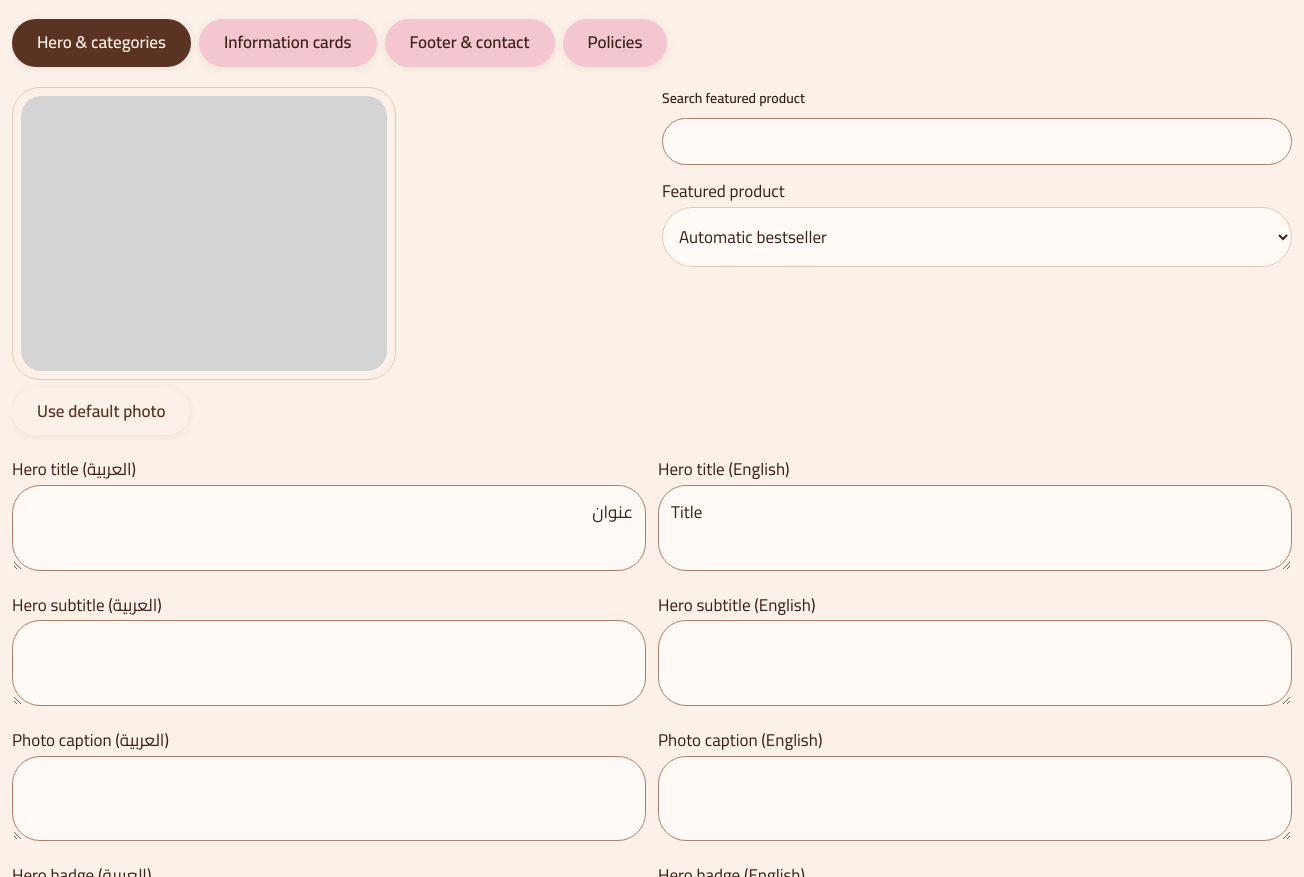
Test: content editor › publishes one coherent document and invalidates the public cache
Step 1. Replace the text in the text box labelled "Hero title (English)" with "New title" → (975,528), box [658,485,1292,571]
(page scrolled)
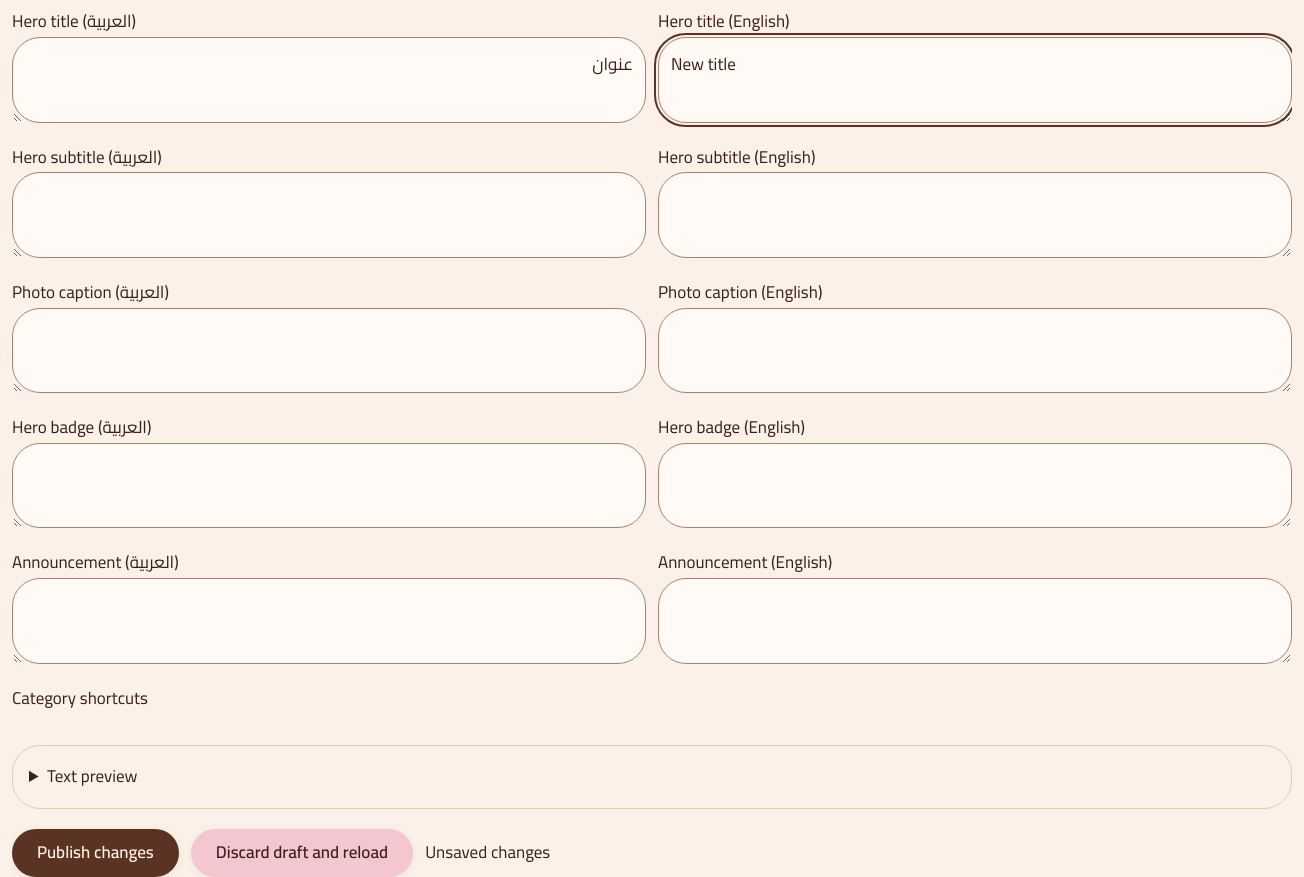
Step 2. Click the button "Publish changes" → (95,853), box [12,829,179,876]
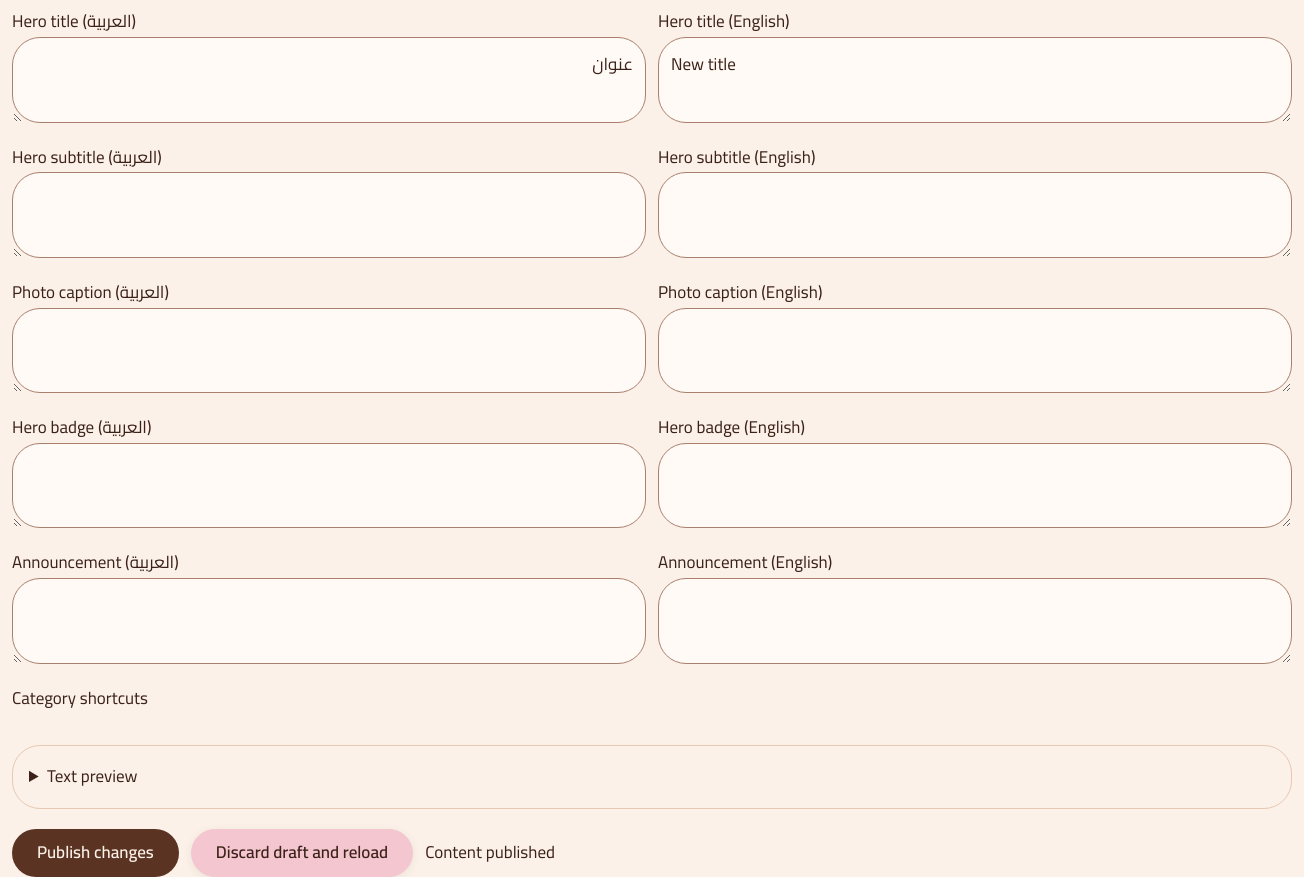
Now the text "Content published" is shown, box [425,838,555,868]
